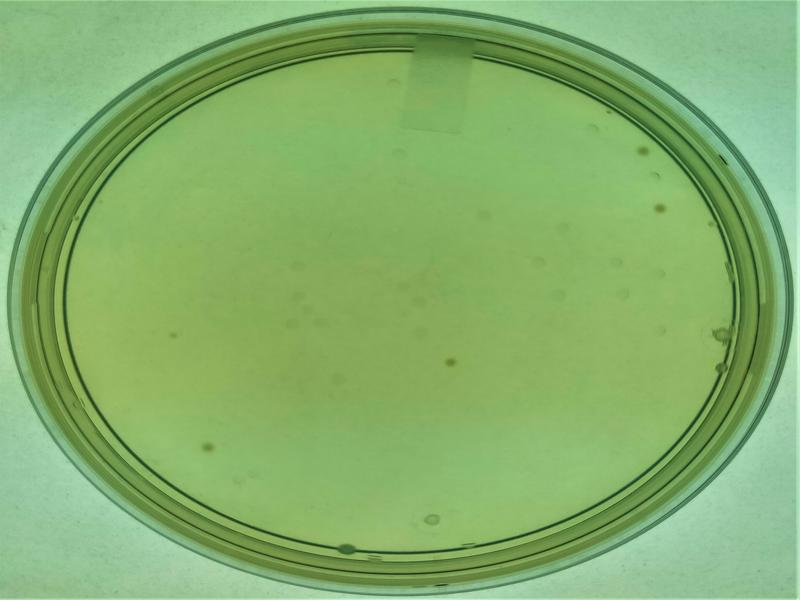colony: (196, 436, 223, 464), (434, 349, 462, 374), (650, 196, 677, 218)
